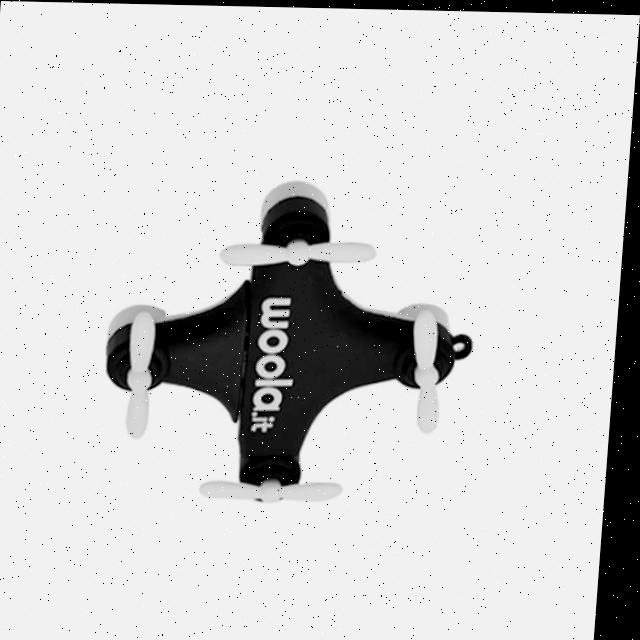drone: (90, 180, 522, 546)
